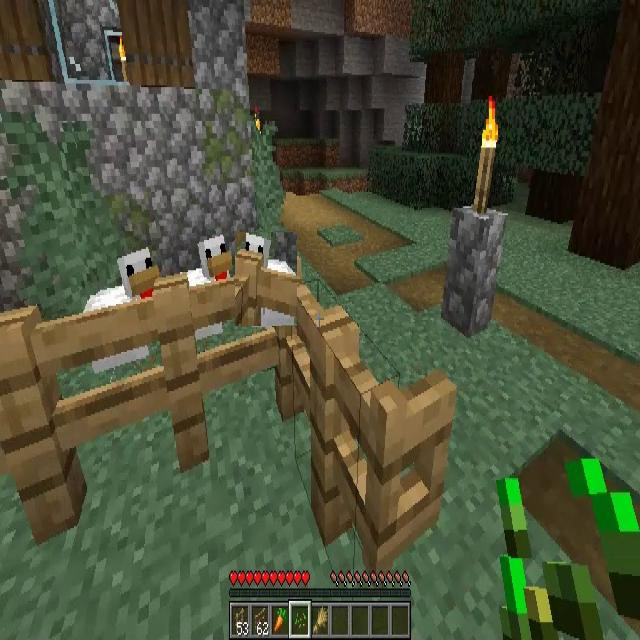duck: (86, 244, 158, 369), (235, 232, 298, 326), (182, 235, 233, 333)
